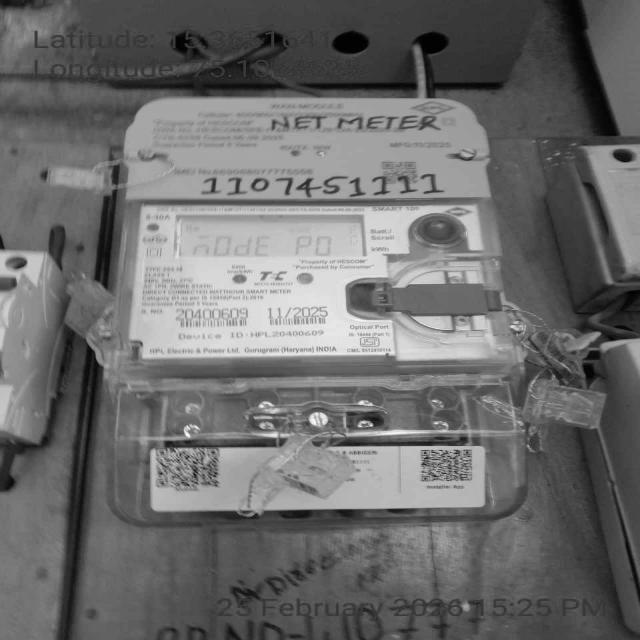meter: (133, 95, 508, 362)
